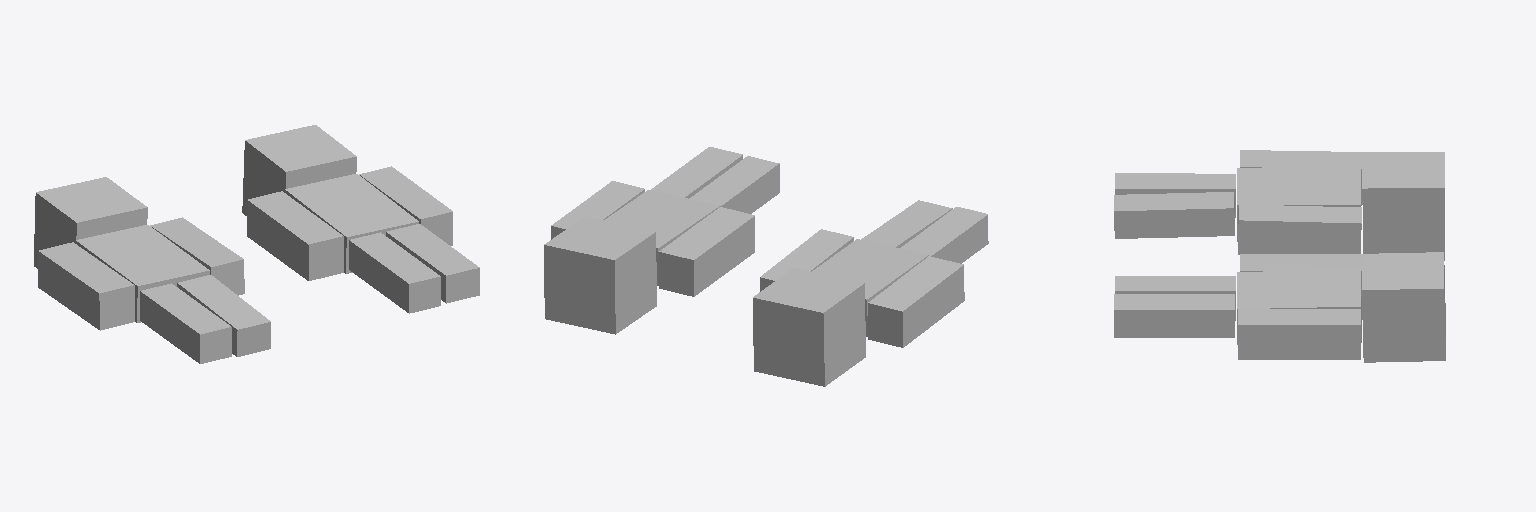
File: steve_000001.obj
3 views of the same model, side by side, from view 1: azimuth 30°, elevation 25°; view 2: azimuth 150°, elevation 25°; view 3: azimuth 270°, elevation 25° (orthographic).
Parts seen in each view (by area): view 1: Cube.001_Cube.002, Cube_Cube.001; view 2: Cube_Cube.001, Cube.001_Cube.002; view 3: Cube.001_Cube.002, Cube_Cube.001.
Boxes of the visible parts, x1,y1,x2,y2 form: Cube.001_Cube.002: [242, 125, 479, 313]; Cube_Cube.001: [34, 177, 270, 363]; Cube_Cube.001: [753, 200, 988, 386]; Cube.001_Cube.002: [544, 147, 779, 334]; Cube.001_Cube.002: [1114, 252, 1445, 362]; Cube_Cube.001: [1114, 150, 1444, 260].
Size of the model in its own units: 6.55 by 1.37 by 5.35.